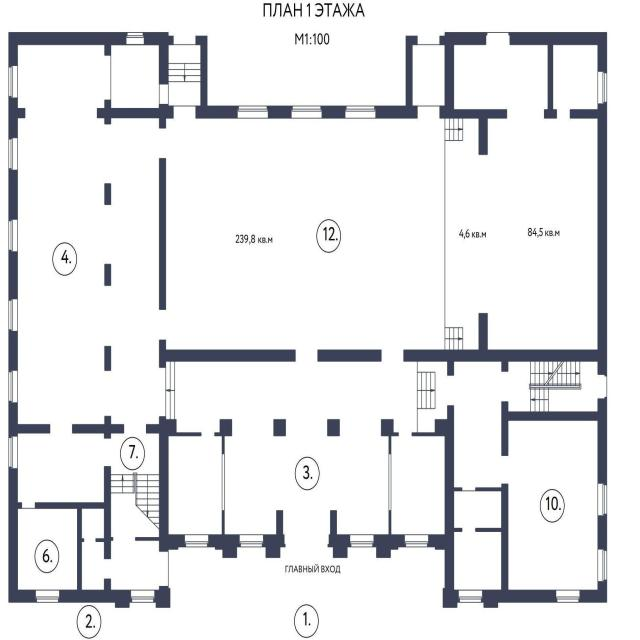Corridors: (176, 362, 417, 534), (488, 119, 597, 349), (454, 362, 501, 487), (455, 533, 501, 589), (413, 45, 444, 105), (455, 491, 500, 527), (82, 543, 103, 589), (83, 509, 104, 538)
Doors: (479, 154, 488, 313), (285, 535, 329, 547), (507, 109, 544, 119), (159, 368, 166, 417), (160, 551, 169, 586), (173, 106, 196, 119), (418, 106, 440, 119), (295, 349, 318, 361), (105, 56, 111, 99), (382, 349, 403, 361), (173, 35, 196, 45), (159, 310, 166, 340), (447, 375, 454, 405), (598, 375, 607, 398), (159, 129, 166, 158), (501, 372, 508, 401), (124, 424, 146, 433), (104, 438, 111, 466), (51, 424, 72, 433), (159, 84, 168, 104), (418, 36, 439, 44), (502, 456, 508, 484), (222, 455, 225, 510), (104, 559, 111, 579), (557, 109, 570, 119), (389, 455, 391, 512), (113, 538, 135, 541), (22, 503, 35, 508), (462, 527, 475, 532), (202, 432, 215, 436), (399, 432, 412, 436), (462, 487, 475, 491), (84, 539, 96, 542)
LBwalls: (403, 104, 607, 376), (428, 419, 458, 608), (439, 32, 487, 119), (8, 32, 127, 66), (510, 32, 608, 72), (8, 468, 36, 603), (158, 417, 184, 552), (166, 349, 296, 362), (482, 589, 556, 608), (144, 31, 169, 84), (59, 590, 131, 608), (96, 104, 173, 119), (597, 398, 607, 483), (318, 349, 382, 362), (373, 534, 405, 559), (208, 534, 240, 559), (8, 98, 26, 137), (375, 105, 417, 119), (196, 105, 237, 119), (580, 582, 607, 603), (263, 534, 285, 558), (329, 534, 350, 559), (8, 169, 18, 218), (8, 251, 18, 299), (8, 331, 18, 371), (154, 585, 171, 608), (478, 119, 488, 155), (597, 516, 607, 550), (268, 105, 292, 119), (322, 105, 345, 119), (8, 403, 18, 435), (381, 419, 394, 436), (327, 419, 340, 436), (273, 419, 286, 436), (104, 345, 112, 371), (220, 419, 232, 436), (104, 183, 112, 206), (104, 263, 112, 286)
Offices: (167, 119, 445, 349), (18, 45, 159, 424), (509, 421, 597, 589), (454, 45, 547, 109), (169, 436, 221, 535), (392, 436, 444, 534), (18, 509, 77, 589), (112, 46, 159, 108), (553, 45, 597, 108), (112, 542, 159, 590)
Stairs: (445, 119, 478, 350), (112, 434, 158, 536), (509, 361, 597, 411), (417, 362, 447, 432), (169, 45, 200, 105), (166, 362, 176, 420)
Walls: (35, 502, 105, 590), (18, 434, 103, 502), (501, 402, 598, 456), (475, 484, 509, 590), (72, 416, 125, 438), (159, 158, 166, 310), (543, 45, 557, 119), (406, 35, 418, 106), (196, 35, 208, 105), (104, 467, 111, 559), (454, 109, 507, 119), (18, 424, 50, 434), (570, 109, 597, 119), (159, 340, 166, 368), (276, 510, 283, 535), (330, 510, 337, 534), (146, 424, 159, 433), (177, 432, 202, 436), (411, 432, 435, 436), (135, 537, 159, 541), (448, 406, 454, 420), (448, 362, 454, 375), (104, 579, 111, 590), (222, 510, 225, 534), (501, 362, 508, 372), (104, 45, 111, 55), (159, 119, 166, 128), (222, 436, 225, 455), (104, 100, 111, 108), (389, 436, 392, 454), (389, 510, 391, 534), (454, 528, 463, 532), (17, 502, 22, 509), (104, 119, 111, 124), (96, 538, 104, 542), (454, 487, 462, 491), (214, 432, 220, 436), (394, 432, 399, 436), (111, 537, 113, 541)
Windows: (237, 105, 268, 119), (291, 105, 322, 119), (345, 105, 376, 119), (404, 534, 428, 548), (350, 534, 374, 548), (239, 534, 263, 548), (184, 534, 208, 548), (597, 483, 607, 516), (597, 549, 607, 582), (8, 436, 18, 469), (8, 370, 18, 403), (8, 299, 18, 332), (8, 219, 18, 252), (8, 137, 18, 170), (8, 66, 18, 99), (486, 32, 510, 45), (556, 590, 580, 603), (458, 590, 482, 603), (131, 590, 155, 603), (36, 590, 60, 603), (598, 72, 607, 105), (126, 32, 144, 45)
